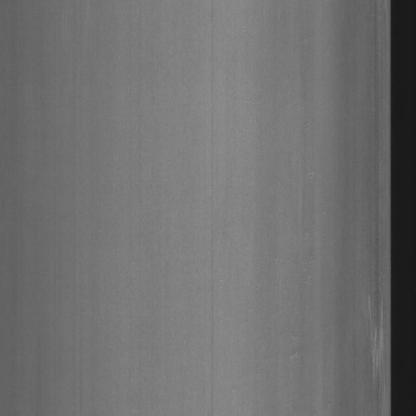silk_spot: (358, 281, 390, 383)
